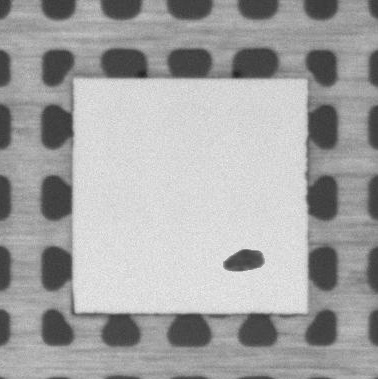DIE_INK: (225, 248, 264, 272)
